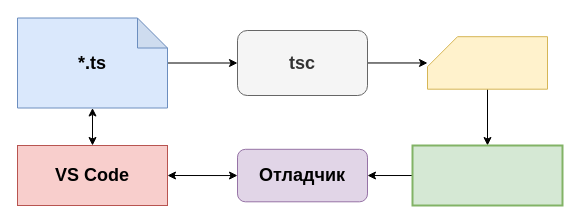
This 581x223 diagram has some shape labels left out. Each missing label, with the centre of its shape:
"*.js" goes at (487,62).
"Node.js" goes at (487,175).
